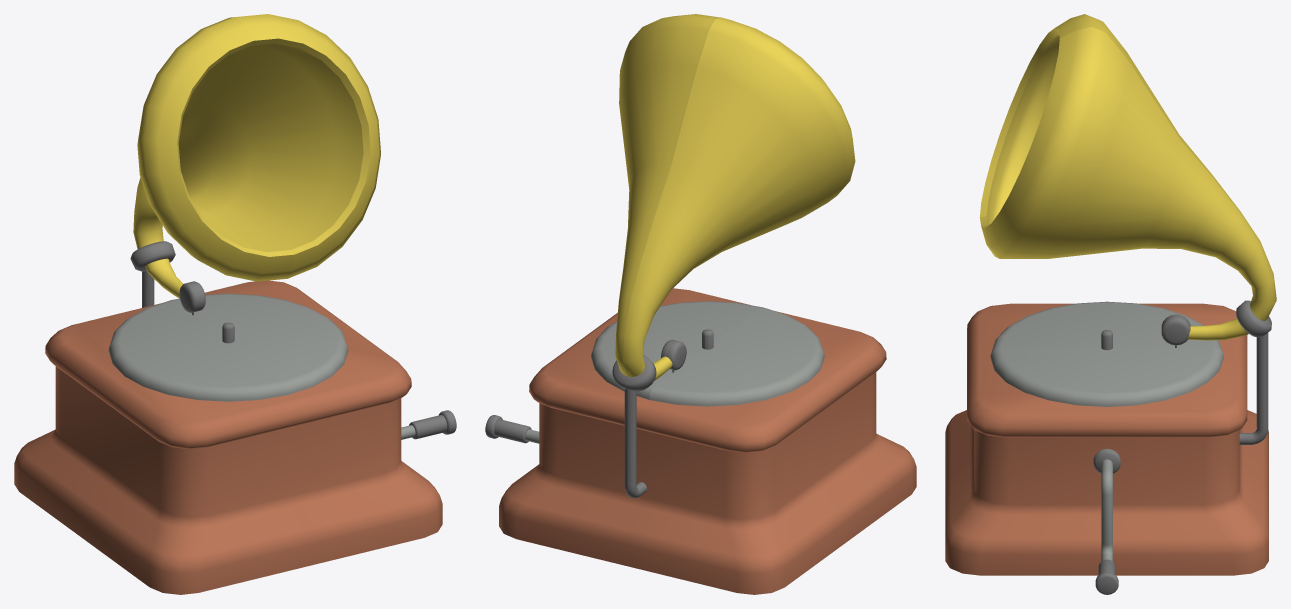
File: SM_Gramophone_01a.fbx
3 views of the same model, side by side, from view 1: azimuth 30°, elevation 25°; view 2: azimuth 150°, elevation 25°; view 3: azimuth 270°, elevation 25° (orthographic). The views are drawn at different scales.
Visible parts, largest first — view 1: Gramophone_01, Gramophone_02; view 2: Gramophone_01, Gramophone_02; view 3: Gramophone_02, Gramophone_01.
Boxes of the visible parts, <box> form: Gramophone_01: <box>14,17,311,594</box>; Gramophone_02: <box>151,14,456,565</box>; Gramophone_01: <box>623,17,916,594</box>; Gramophone_02: <box>485,14,762,565</box>; Gramophone_02: <box>945,27,1276,594</box>; Gramophone_01: <box>945,14,1273,484</box>.
Size of the model in its own units: 42.81 by 54.95 by 34.37.
